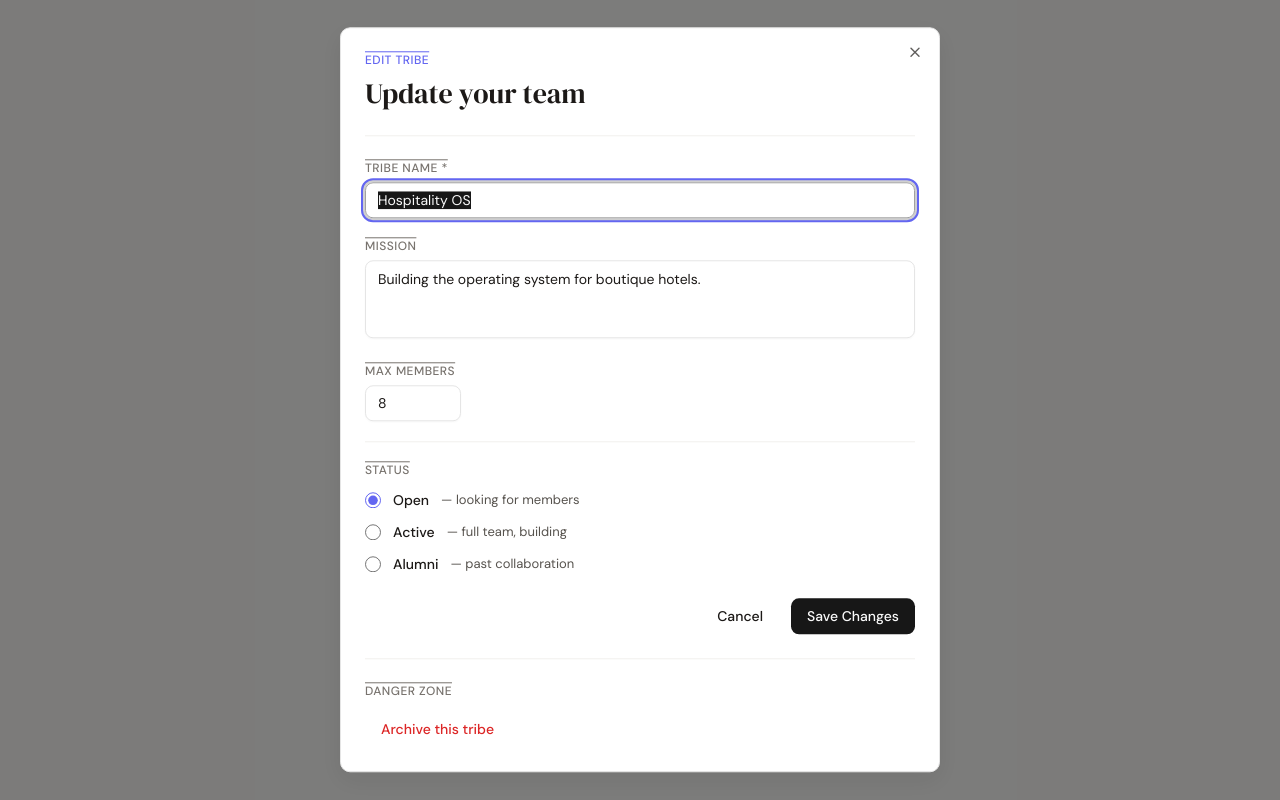
Test: EditTribeModal › changing status updates the radio selection
Click the radio button labelled "Active — full team, building". click: (373, 532)
box: [365, 524, 381, 540]
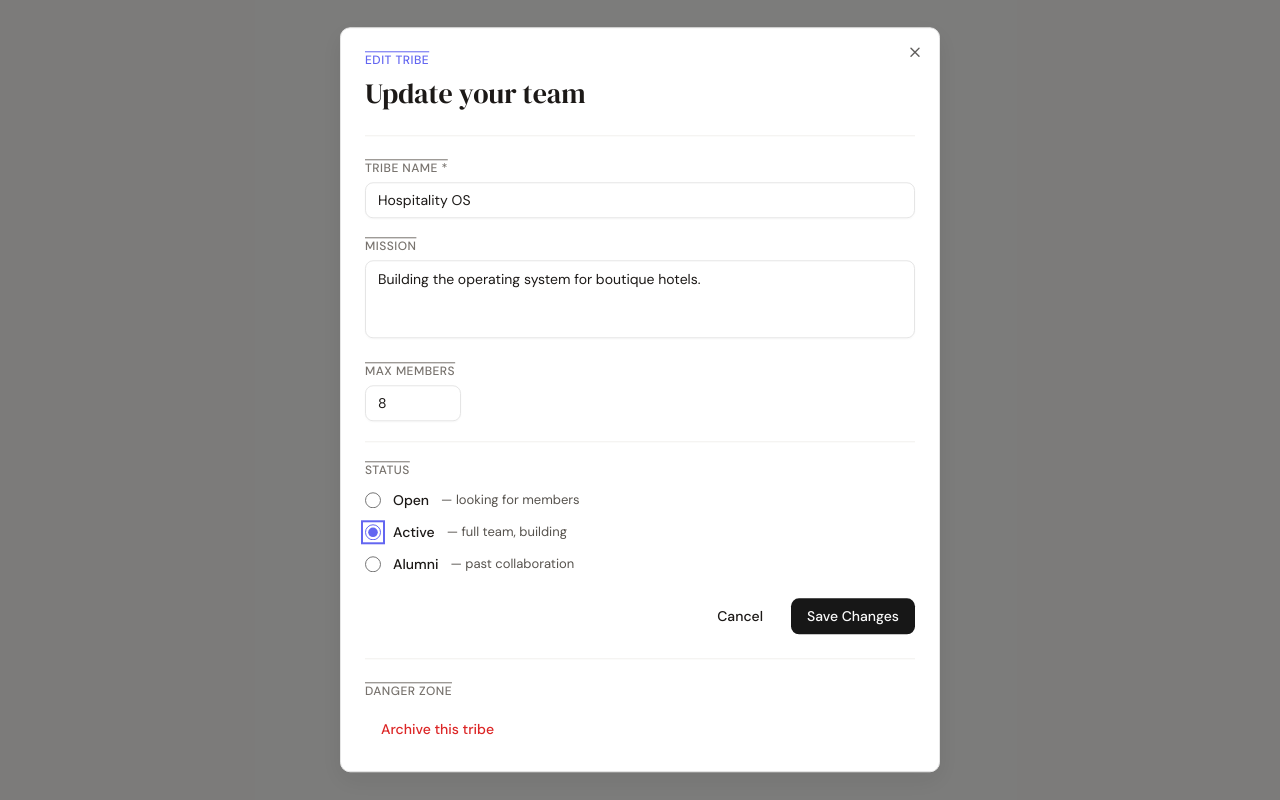
Check: the radio button labelled "Active — full team, building" is checked, box [365, 524, 381, 540]
Check: the radio button labelled "Open — looking for members" is not checked, box [365, 492, 381, 508]
